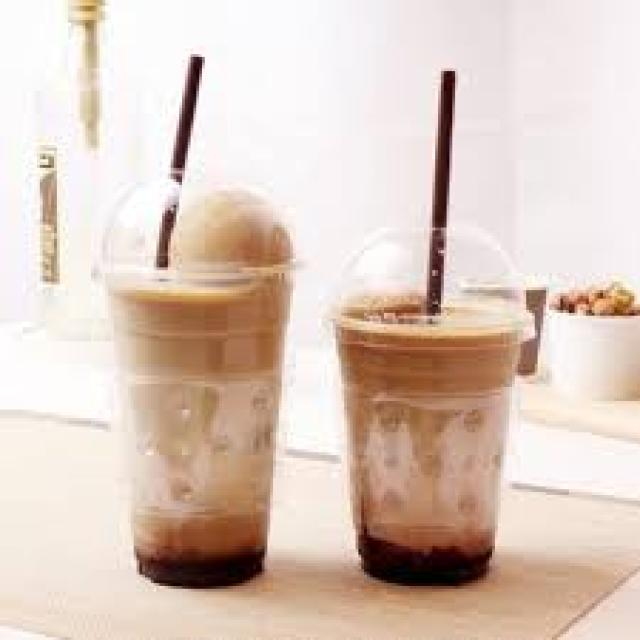bottle: (112, 266, 290, 586), (338, 314, 518, 583)
